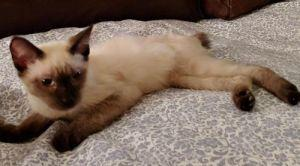siamese: (7, 18, 100, 117)
